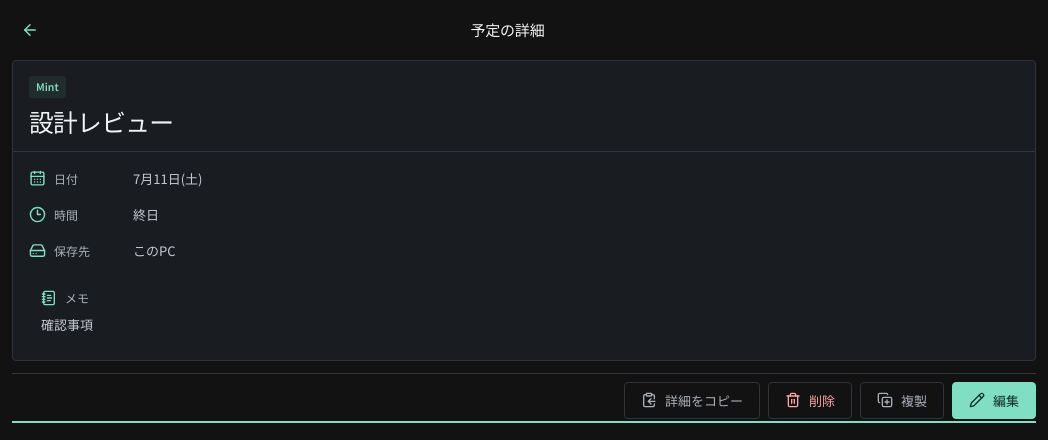
CalendarEventDetail › keeps the event visible when copying fails
Click the button "詳細をコピー": (692, 400) [624,382,760,419]
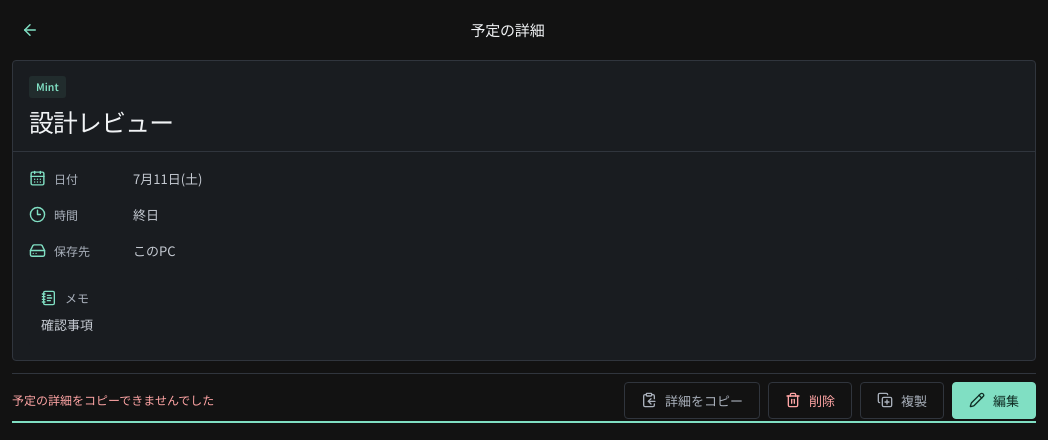
Expected: the heading "設計レビュー" is shown, [29,103,173,139]
Expected: the message reads "予定の詳細をコピーできませんでした", [12,392,214,408]
